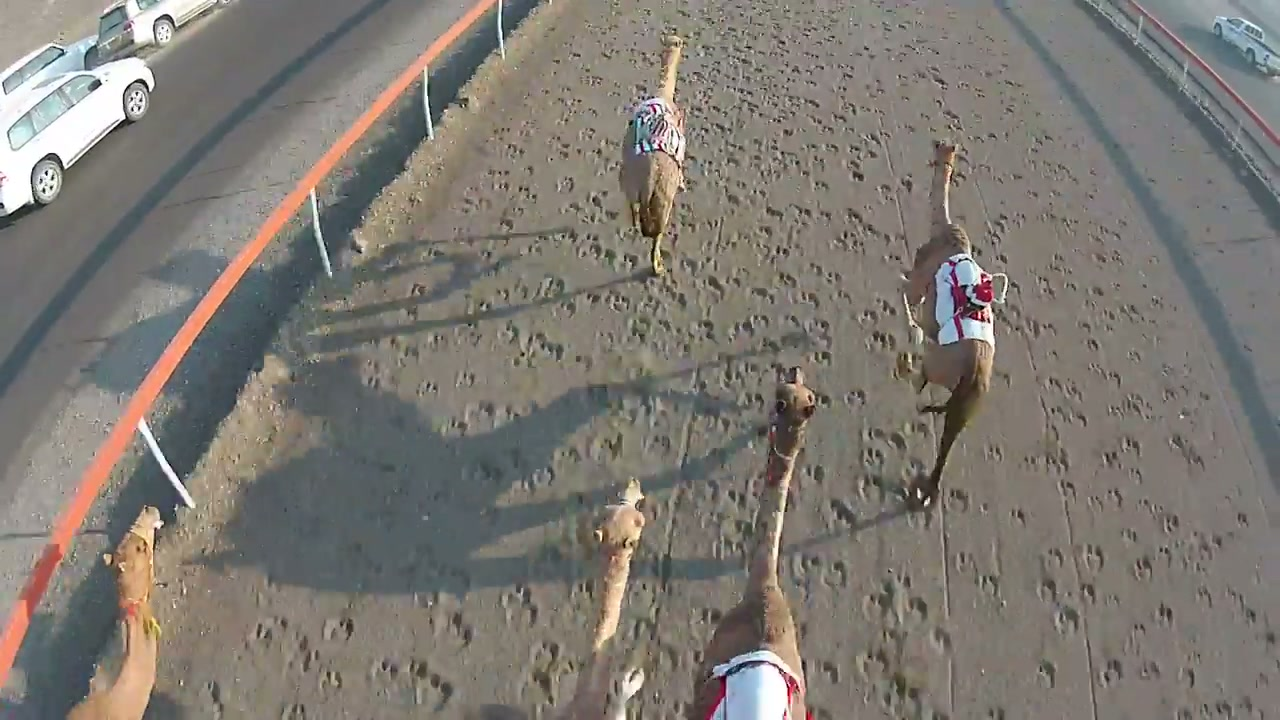animal_footprint: (156, 0, 1279, 717)
